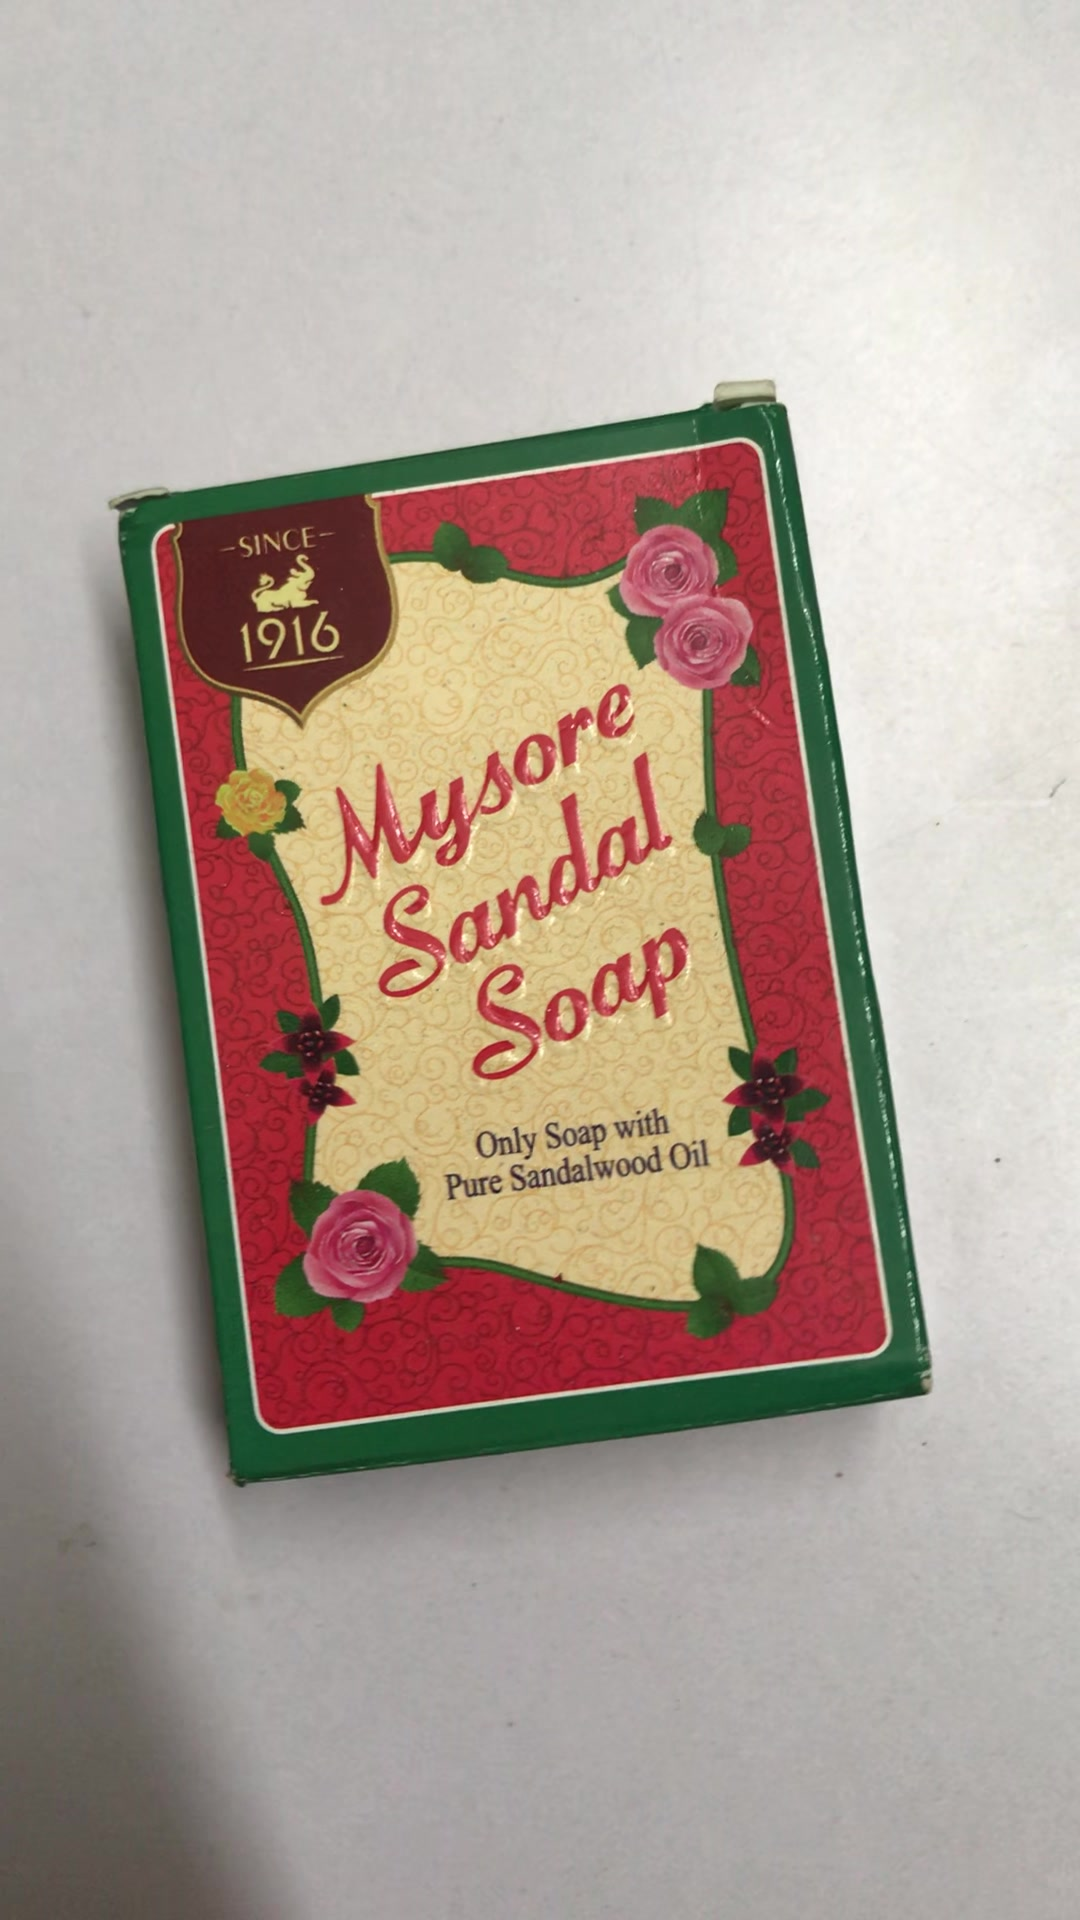mysore sandal soap: (120, 392, 932, 1486)
